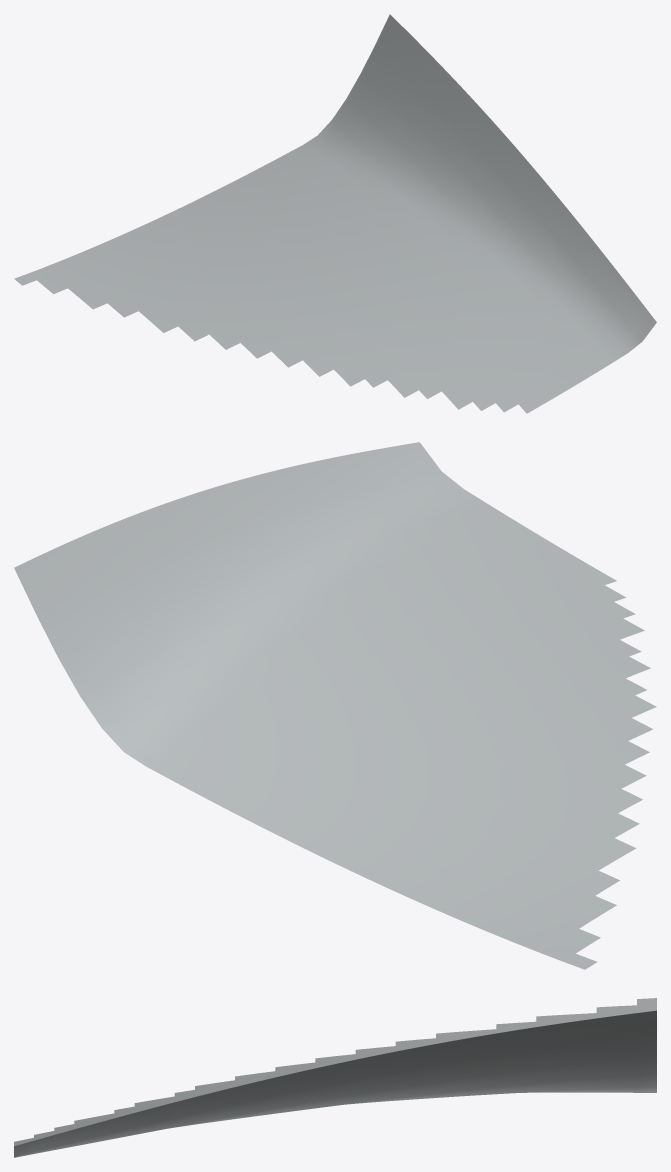
Rendered from alpine-11-9.glb.
3 renders of one model, top to bottom at view 1: azimuth 30°, elevation 25°; view 2: azimuth 150°, elevation 25°; view 3: azimuth 270°, elevation 25°, orthographic. The views are drawn at different scales.
Parts seen in each view (by area): view 1: alpine-11-9; view 2: alpine-11-9; view 3: alpine-11-9.
Boxes of the visible parts, bbox=[...] form: alpine-11-9: bbox=[14, 14, 656, 413]; alpine-11-9: bbox=[14, 442, 656, 969]; alpine-11-9: bbox=[14, 998, 656, 1157].
Bounding box in the file's own units: 208 × 93.18 × 256.
Materials: 1 (1 with a texture image).
